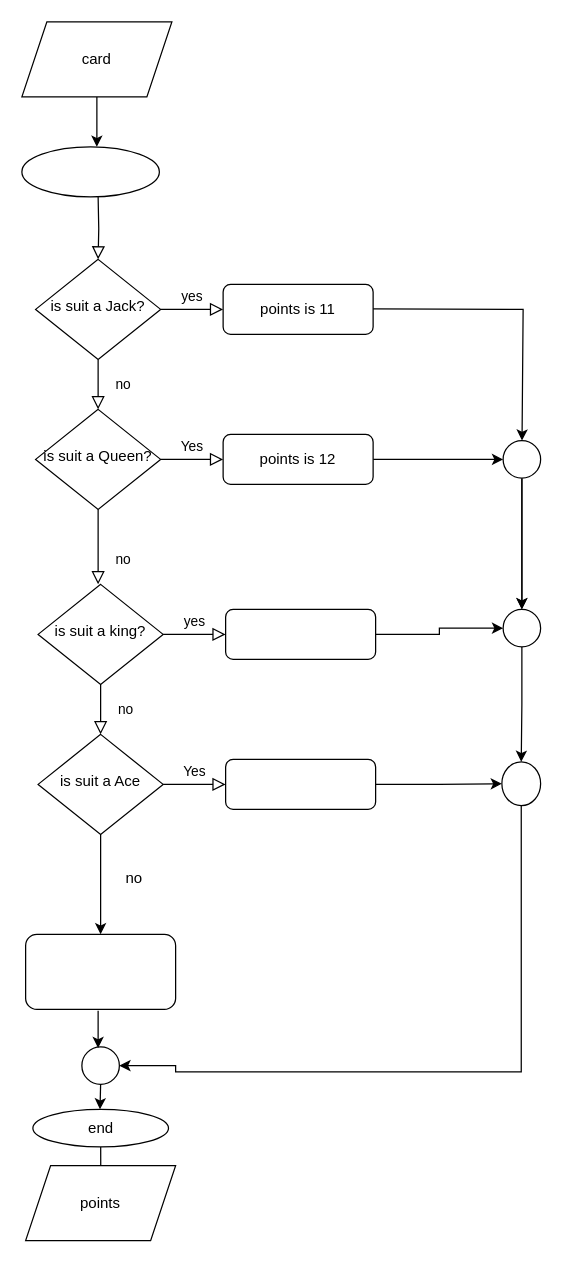
Image size: 563x1263. Some labels were removed from this diagram. Each missing label, with the centre of its shape:
"points equal rank" belongs at point (100, 971).
"points is 13" belongs at point (300, 633).
"points is 14" belongs at point (300, 783).
"start" belongs at point (90, 171).
